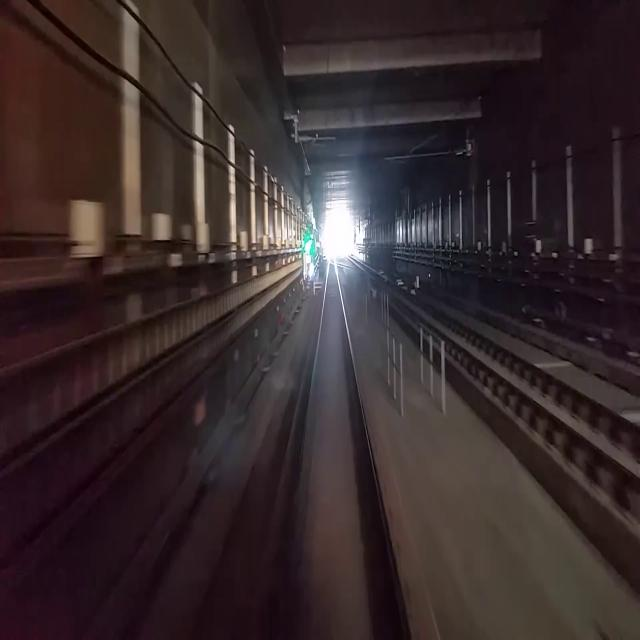rail-track: (368, 272, 639, 472), (278, 263, 406, 639), (346, 254, 369, 269), (329, 255, 334, 262)
